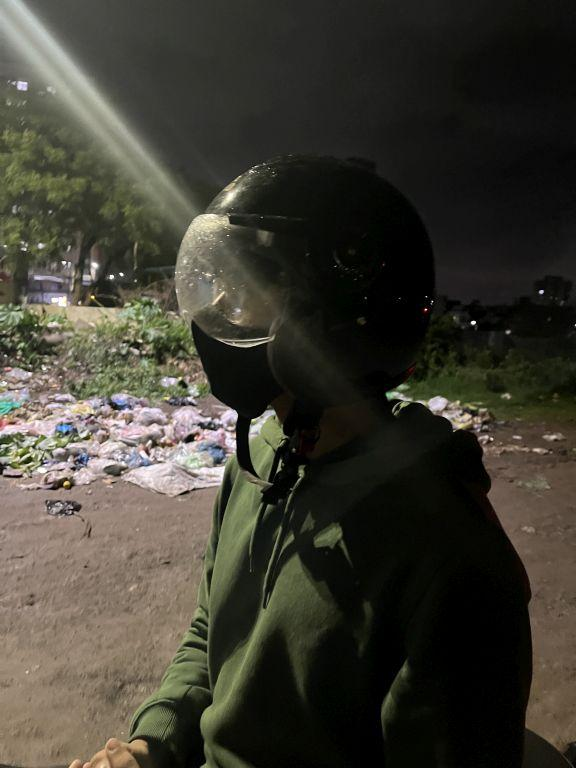helmet: (164, 160, 446, 431)
